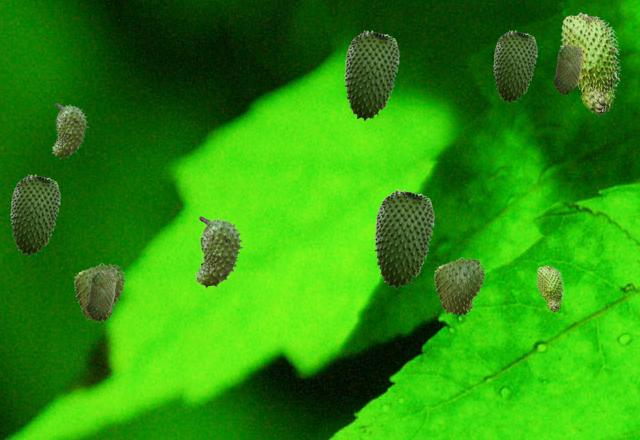guyabano: (559, 12, 620, 115), (374, 189, 433, 288), (344, 30, 398, 120), (10, 174, 59, 255), (194, 216, 243, 288), (493, 30, 536, 102), (74, 263, 125, 322), (434, 257, 485, 316), (51, 103, 88, 158), (86, 270, 115, 320), (553, 44, 582, 94), (536, 265, 563, 311)
